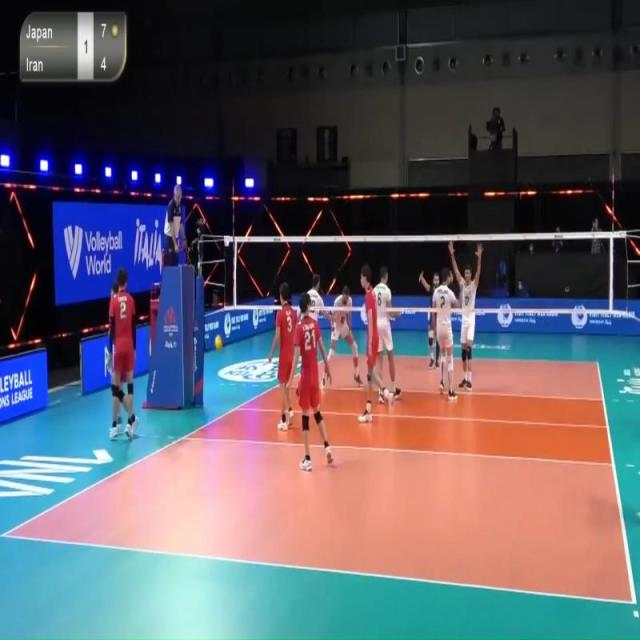volleyball: (214, 334, 222, 352)
